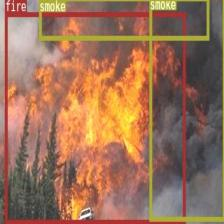fire: (4, 11, 184, 223)
smoke: (149, 0, 224, 220), (38, 0, 208, 39)
